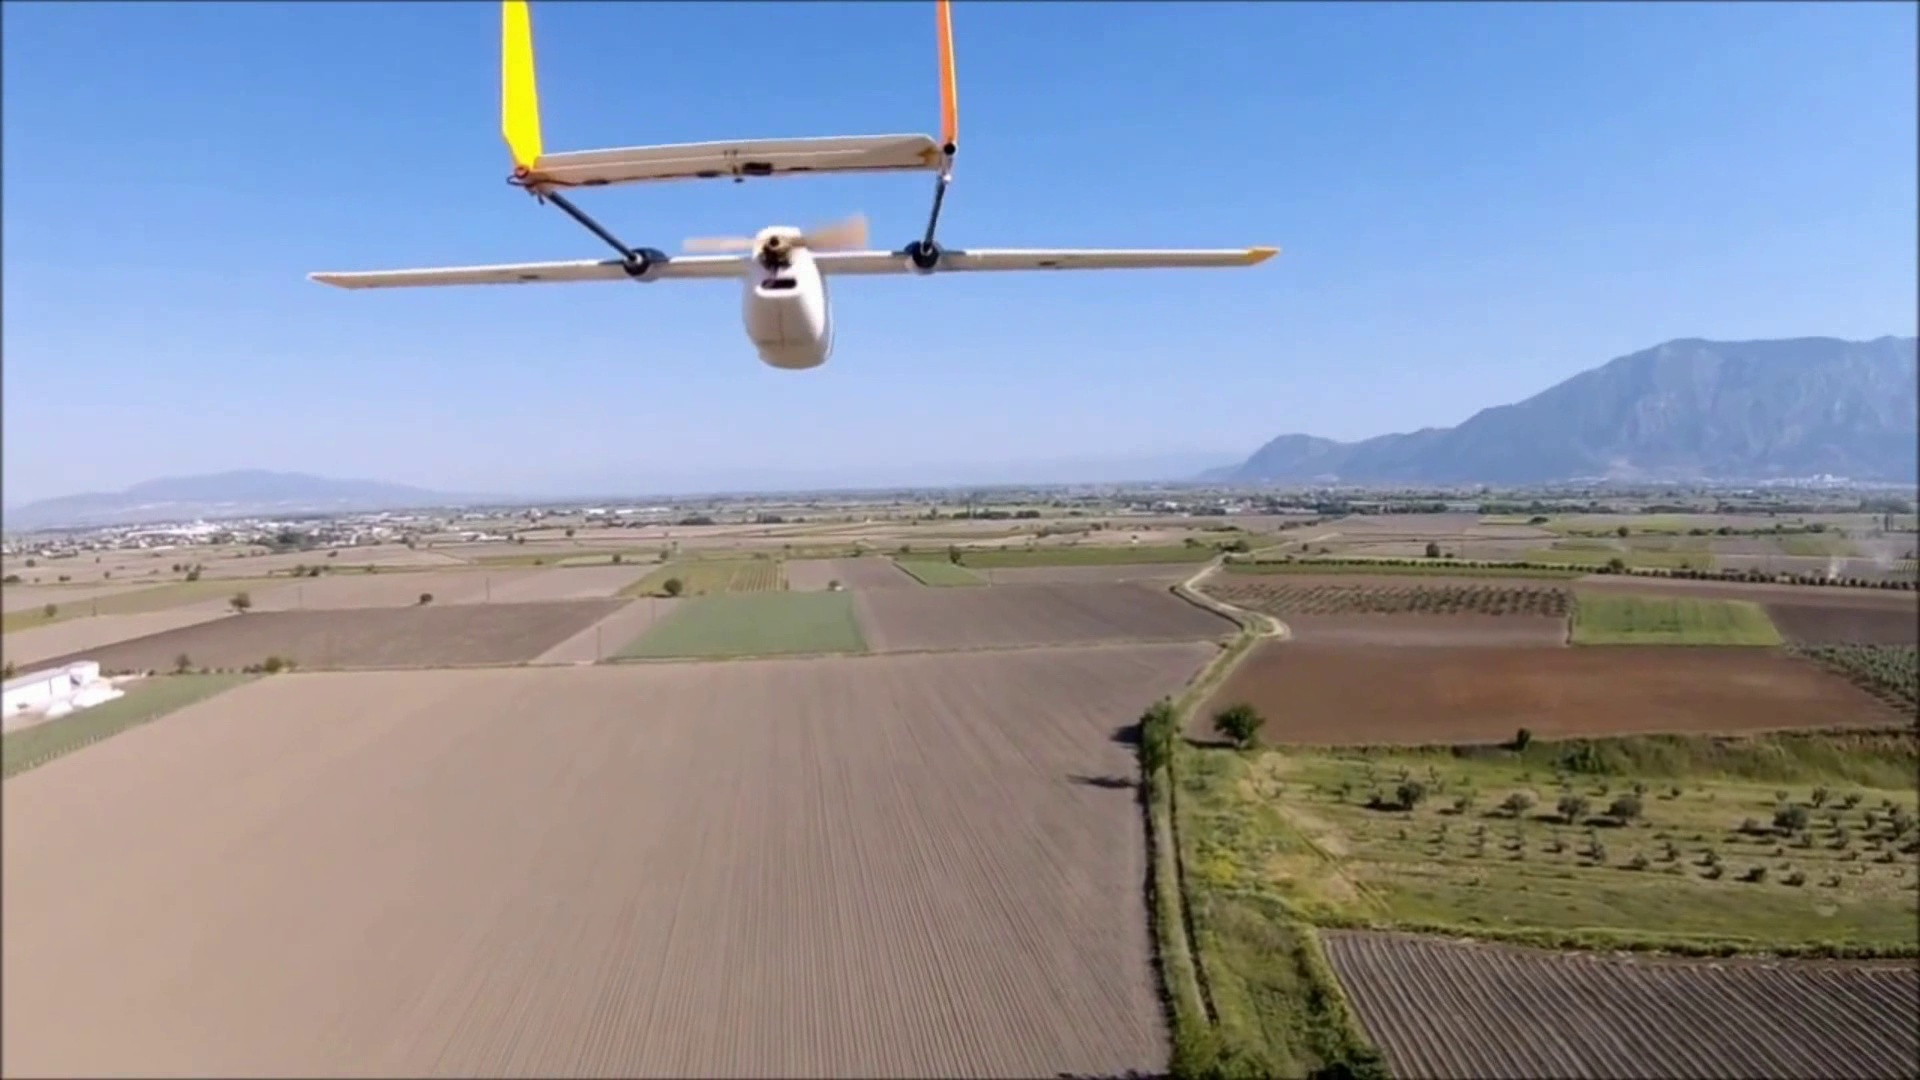airplane: (307, 3, 1278, 367)
